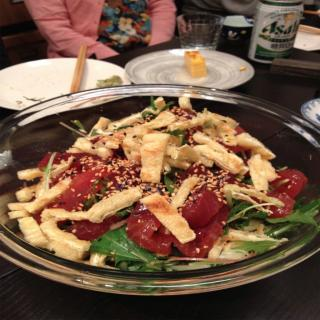Salad: (0, 92, 320, 287)
